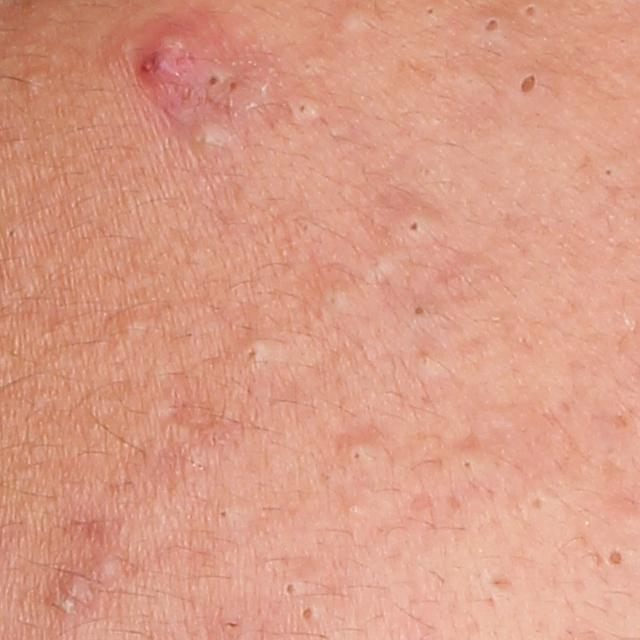comedo: (239, 339, 268, 372), (512, 68, 540, 101), (287, 97, 321, 123), (19, 69, 51, 96), (342, 8, 372, 36), (119, 317, 149, 340), (95, 555, 118, 581), (278, 577, 300, 602), (422, 1, 443, 25), (520, 3, 545, 22), (597, 161, 618, 182), (483, 15, 504, 35), (457, 455, 477, 475), (297, 600, 314, 622), (528, 492, 545, 513), (5, 223, 21, 242), (411, 303, 430, 316), (225, 78, 240, 93)
papule: (134, 6, 223, 98), (51, 568, 95, 614)
